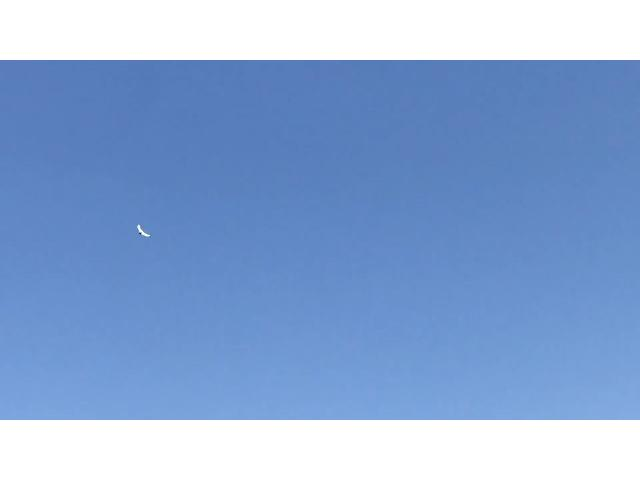Anti-Drone: (126, 222, 160, 242)
